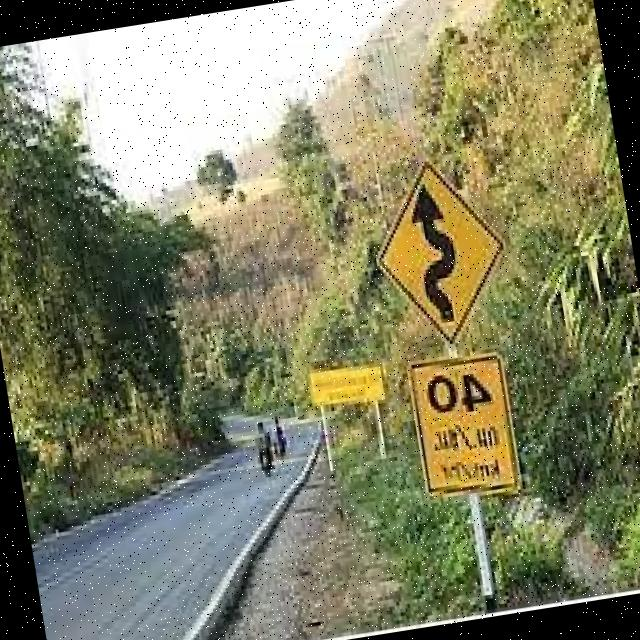left_sharp_curve: (356, 140, 523, 354)
